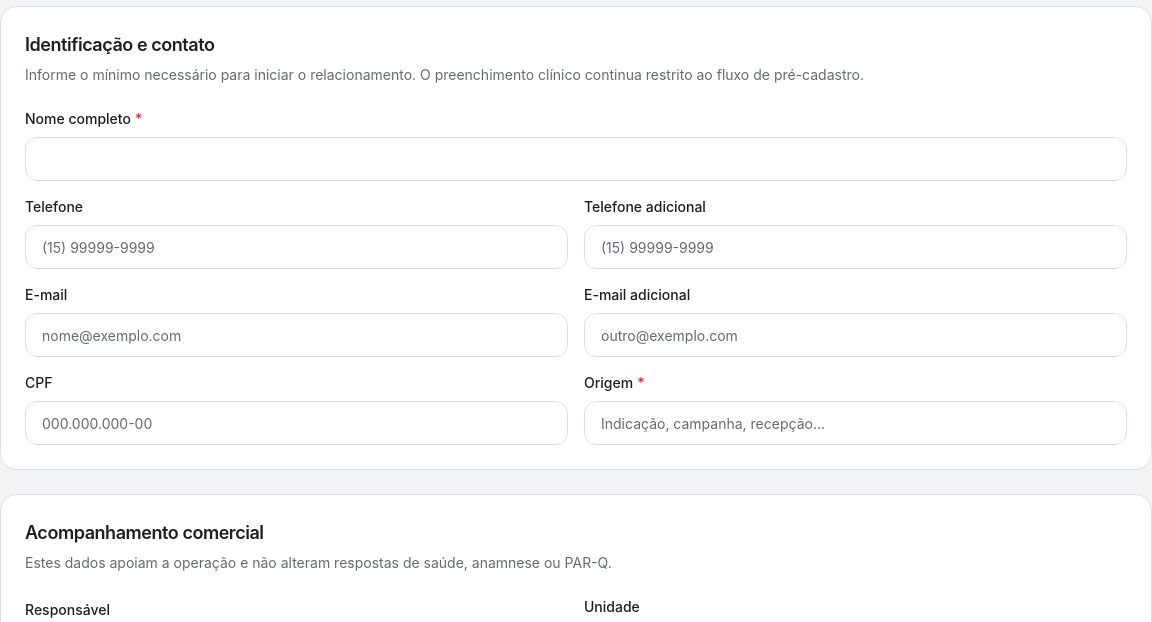
LeadForm duplicate confirmation boundary › keeps invalid data on screen and does not submit
The image size is (1152, 622).
In the field labelled "CPF": (296, 423) [25,401,568,445], type "11111111111"
(page scrolled)
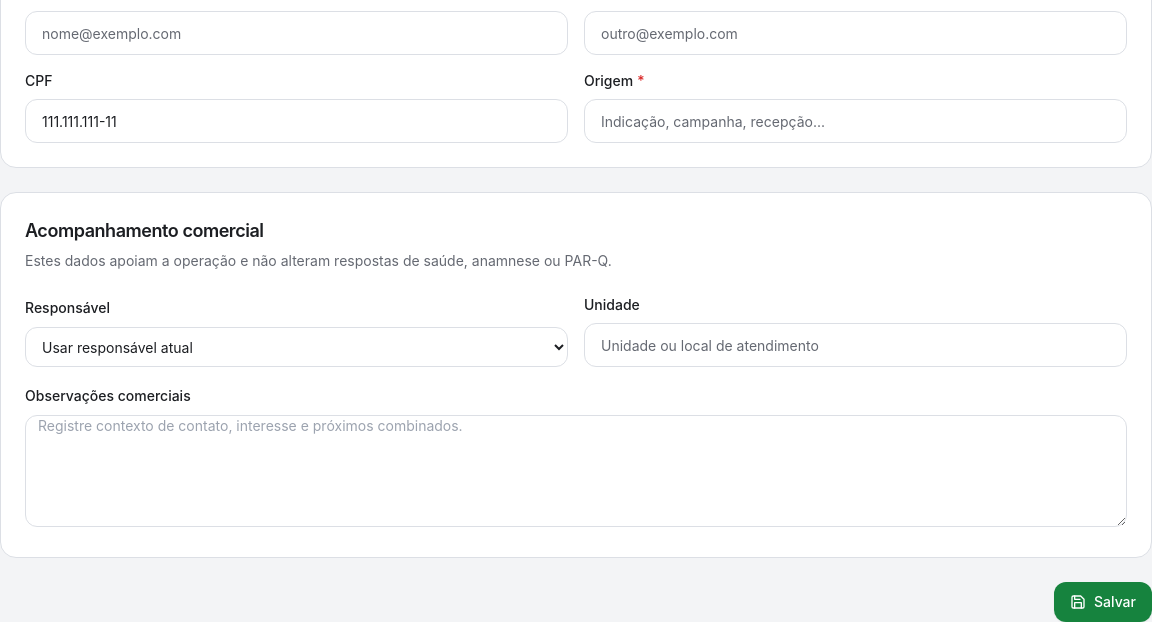
Click the button "Salvar": (1103, 602) [1054,582,1151,621]
(page scrolled)
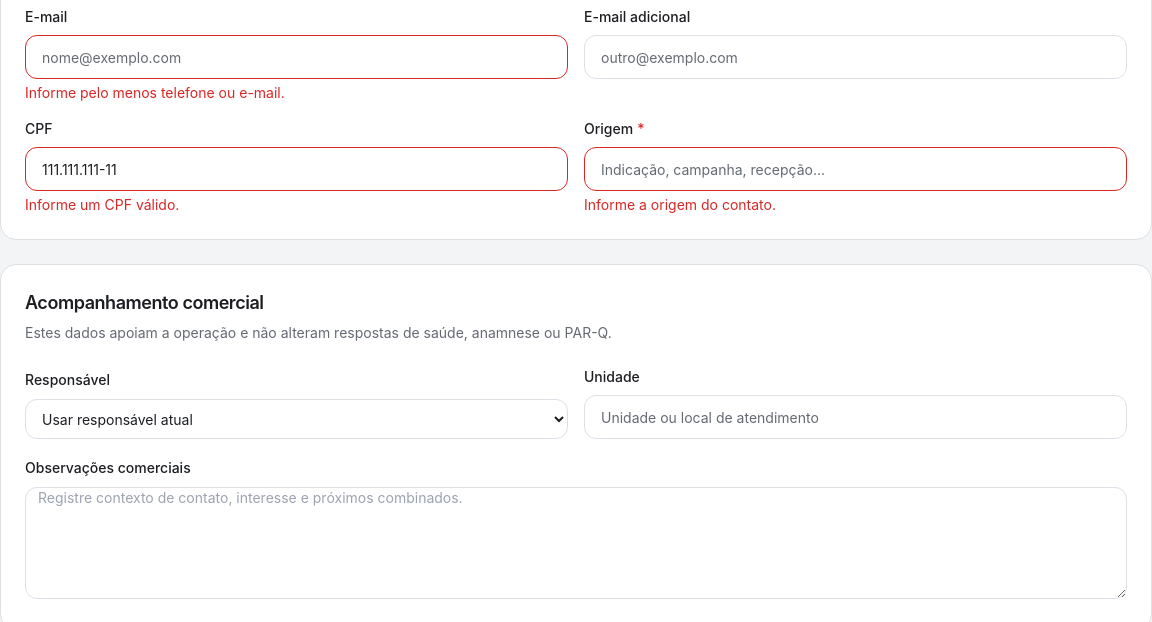
Expected: the field showing "111.111.111-11" is shown, [25,147,568,191]
Expected: the text "Informe a origem do contato." is shown, [584,196,776,213]
Expected: the text "Informe um CPF válido." is shown, [25,196,179,213]
